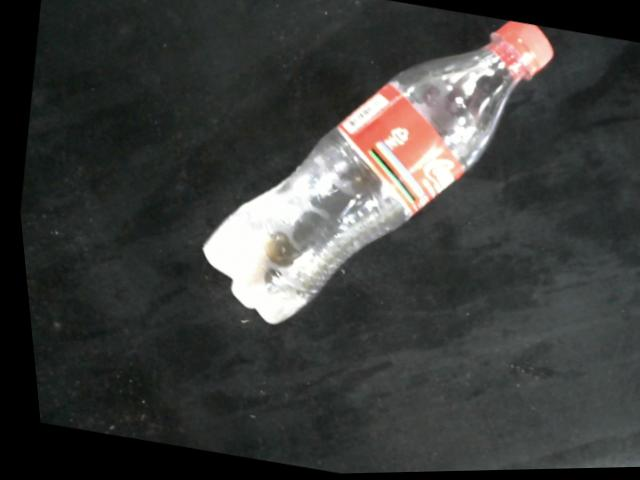bottle: (196, 23, 556, 328)
